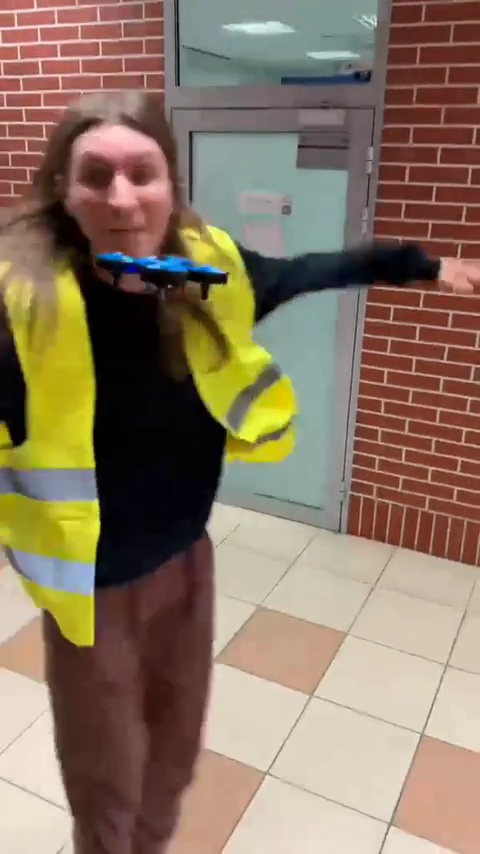drone: (99, 246, 227, 300)
vest: (0, 90, 304, 854)
